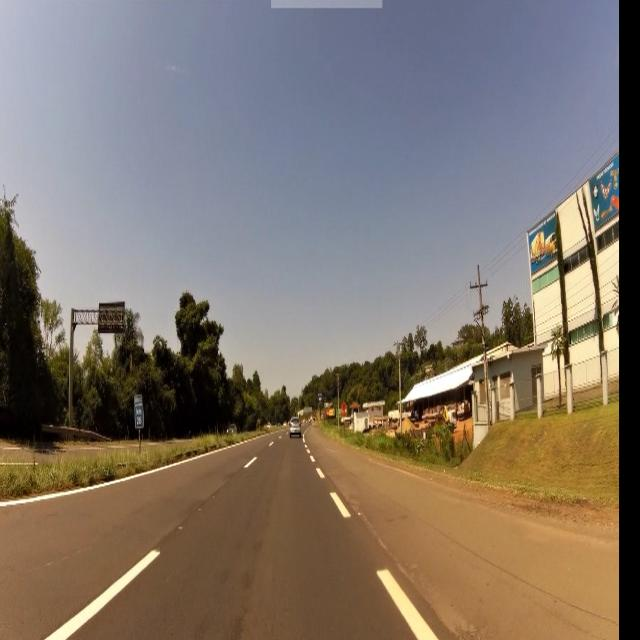RQ: (134, 395, 144, 431)
